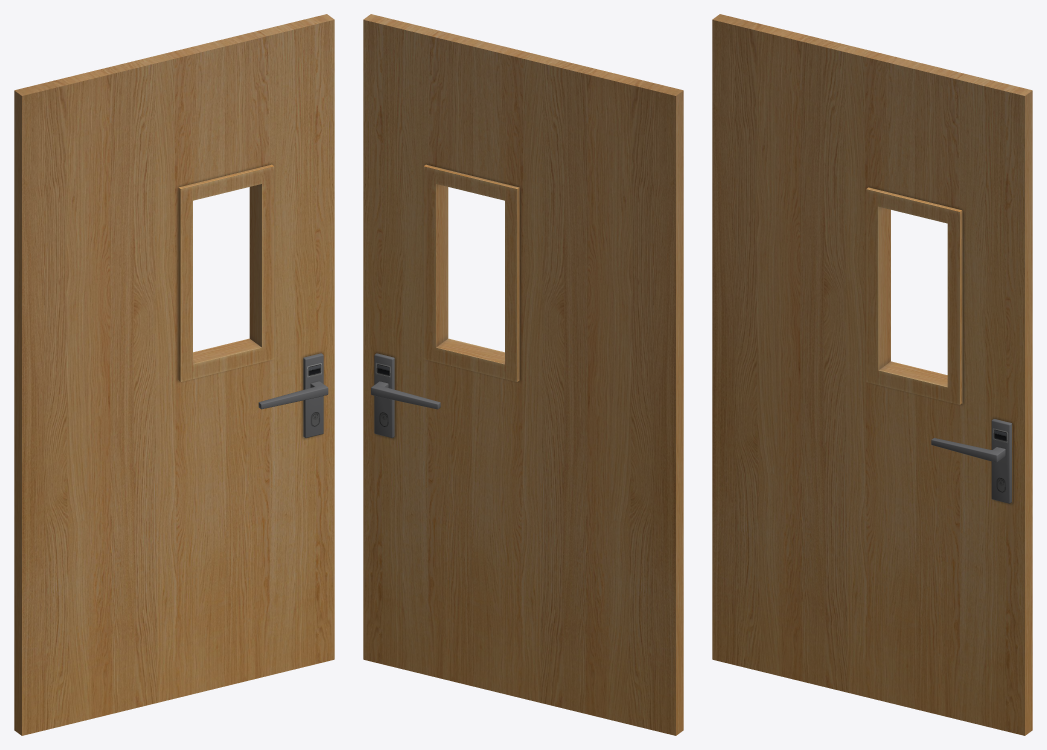
File: door single.FBX
3 views of the same model, side by side, from view 1: azimuth 30°, elevation 25°; view 2: azimuth 150°, elevation 25°; view 3: azimuth 330°, elevation 25° (orthographic).
Visible parts, largest first — view 1: door single; view 2: door single; view 3: door single.
Part boxes in pixels (bbox=[...]): door single: bbox=[14, 14, 334, 735]; door single: bbox=[363, 14, 683, 735]; door single: bbox=[712, 14, 1032, 735].
Bounding box in the file's own units: 41.25 × 6.67 × 80.64.
